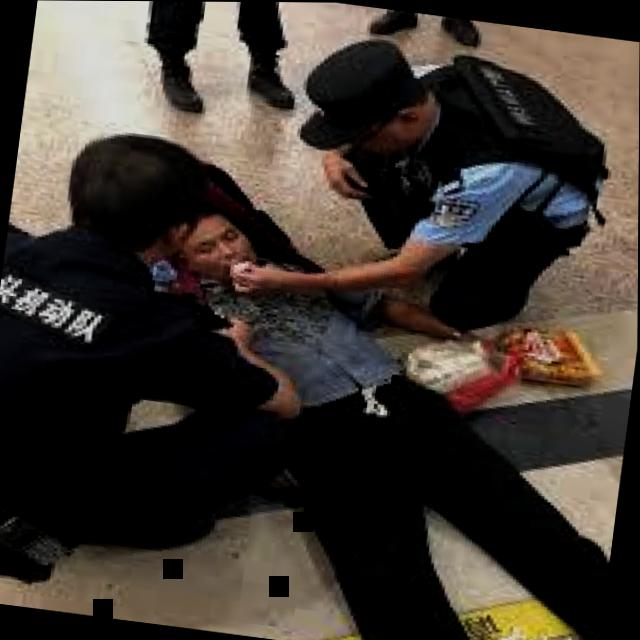Fall-Detected: (138, 164, 639, 640)
